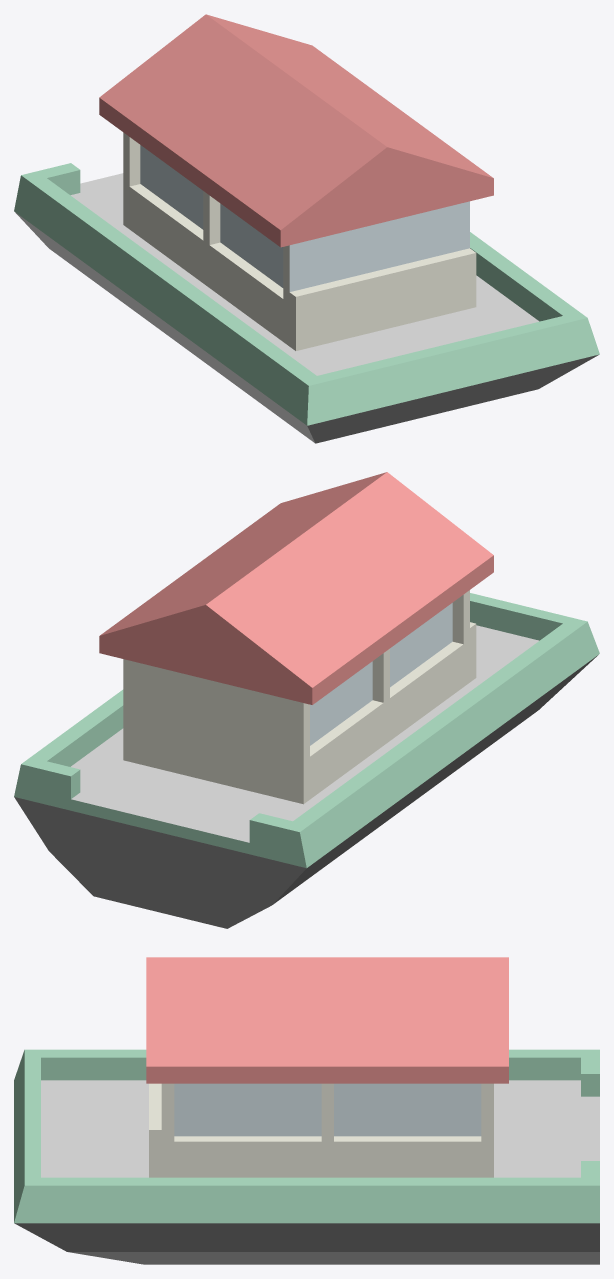
The picture shows the model from 3 angles, top to bottom: view 1: azimuth 30°, elevation 25°; view 2: azimuth 150°, elevation 25°; view 3: azimuth 270°, elevation 25°; orthographic projection.
Visible parts, largest first — view 1: Mesh1 Group1 Model; view 2: Mesh1 Group1 Model; view 3: Mesh1 Group1 Model.
Boxes of the visible parts, x1=… form: Mesh1 Group1 Model: x1=14, y1=14, x2=599, y2=443; Mesh1 Group1 Model: x1=14, y1=472, x2=599, y2=928; Mesh1 Group1 Model: x1=14, y1=957, x2=599, y2=1264.
Size of the model in its own units: 2.68 by 2.4 by 4.64.
